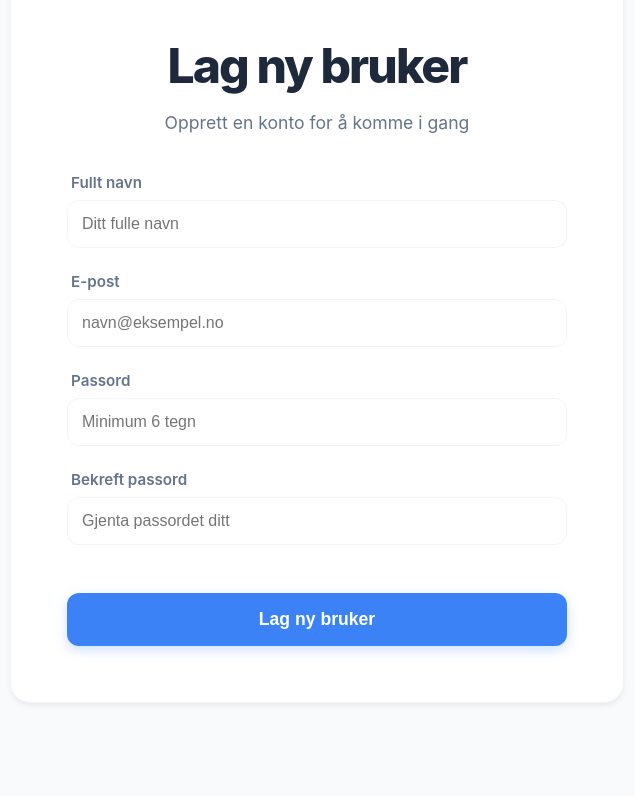
it: CreateUser Component › viser feilmelding hvis passordet er for kort
The image size is (635, 796).
In the field labelled "Fullt navn": x=317, y=224 [67,200,567,248], type "Test Bruker"
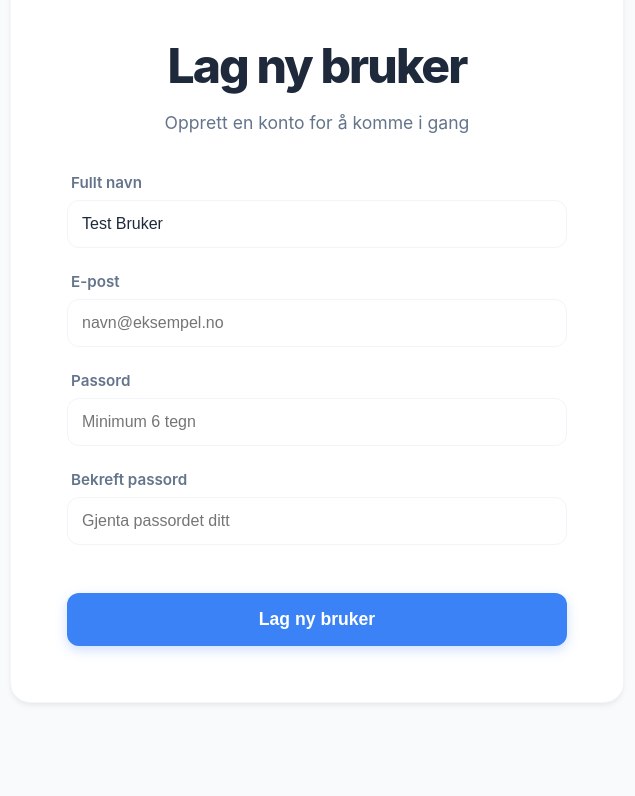
In the field labelled "E-post": x=317, y=323 [67,299,567,347], type "test@test.no"
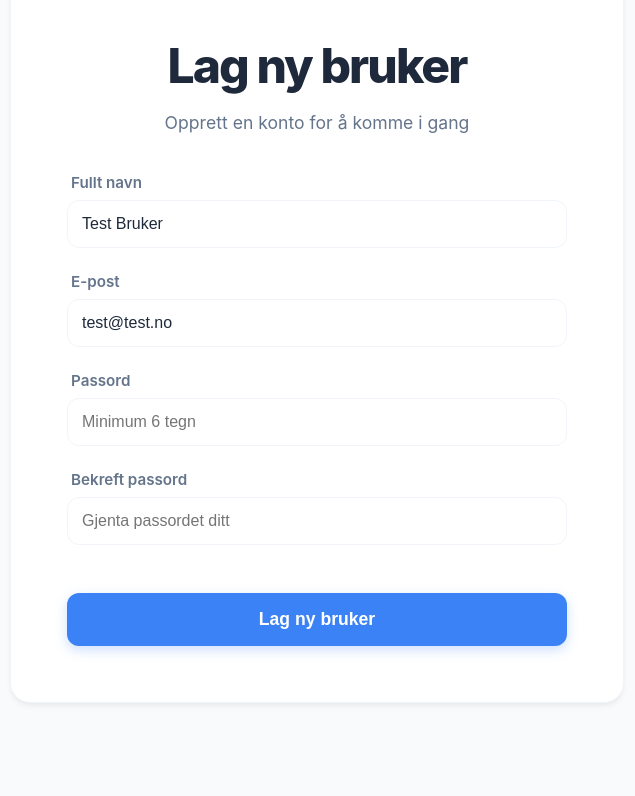
In the password field labelled "Passord": x=317, y=422 [67,398,567,446], type "123"
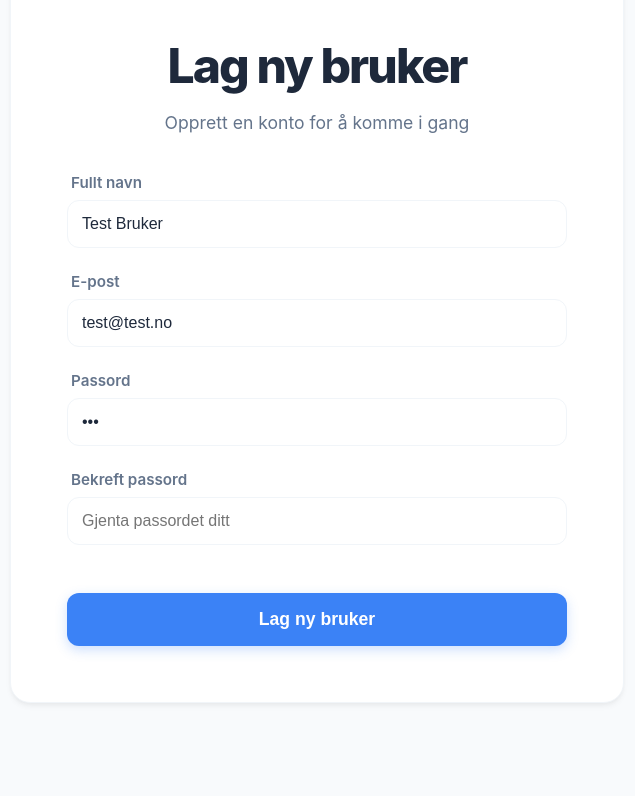
In the password field labelled "Bekreft passord": x=317, y=521 [67,497,567,545], type "123"
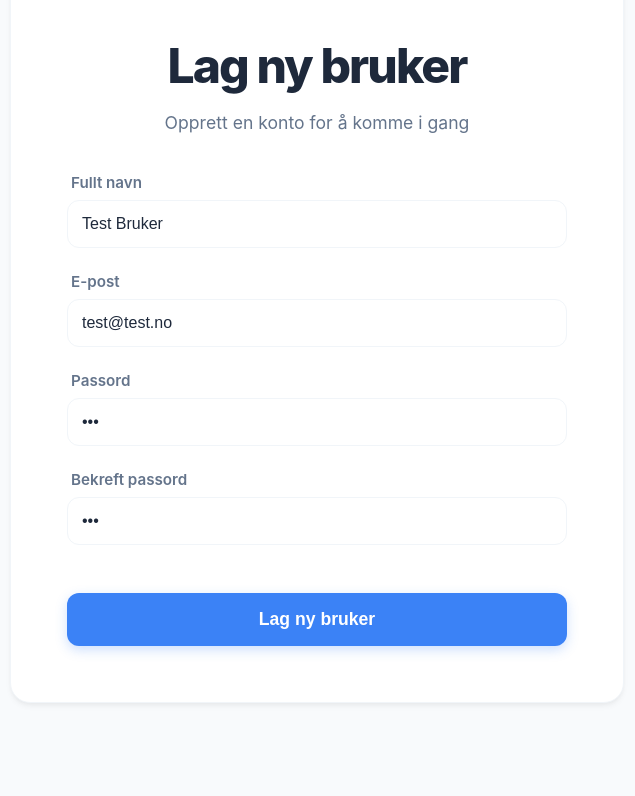
Click the button "Lag ny bruker": x=317, y=620 [67,593,567,646]
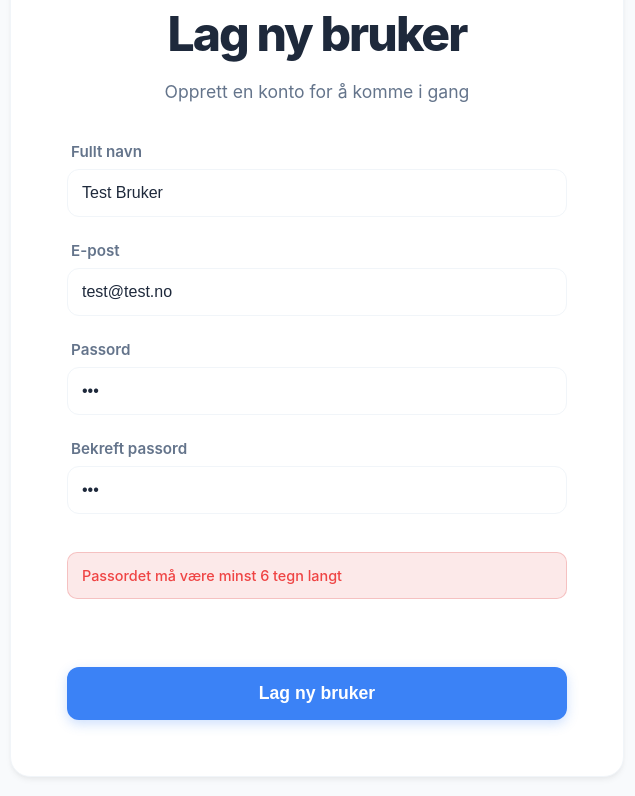
Now the text "Passordet må være minst 6 tegn langt" is shown, box [67,552,567,599]
